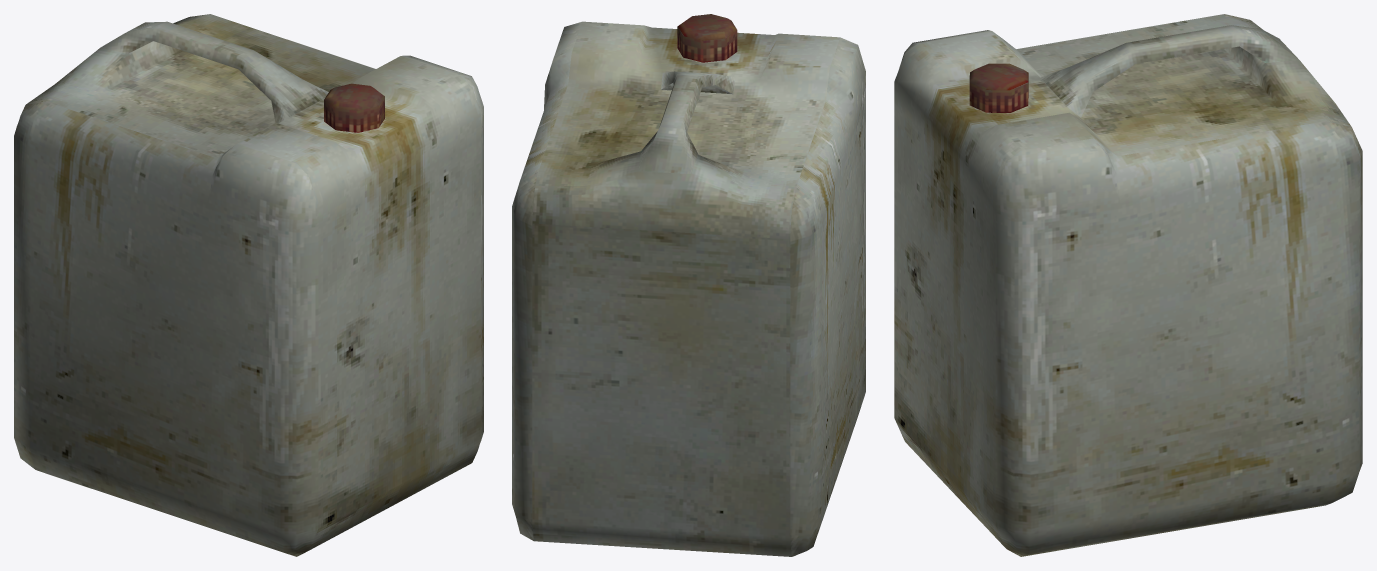
The model's file is kanistra.fbx.
3 views of the same model, side by side, from view 1: azimuth 30°, elevation 25°; view 2: azimuth 150°, elevation 25°; view 3: azimuth 270°, elevation 25° (orthographic). The views are drawn at different scales.
Visible parts, largest first — view 1: mesh_0.045; view 2: mesh_0.045; view 3: mesh_0.045.
Boxes of the visible parts, x1=… form: mesh_0.045: x1=14, y1=14, x2=483, y2=556; mesh_0.045: x1=512, y1=14, x2=865, y2=556; mesh_0.045: x1=894, y1=14, x2=1362, y2=556.
Size of the model in its own units: 0.5213 by 0.5757 by 0.5691.
